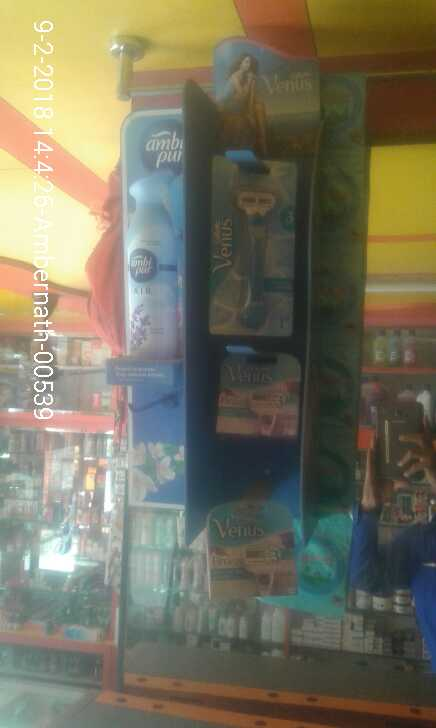beauty: (209, 149, 297, 337), (213, 343, 303, 439), (203, 496, 291, 594)
home: (124, 169, 178, 356)
